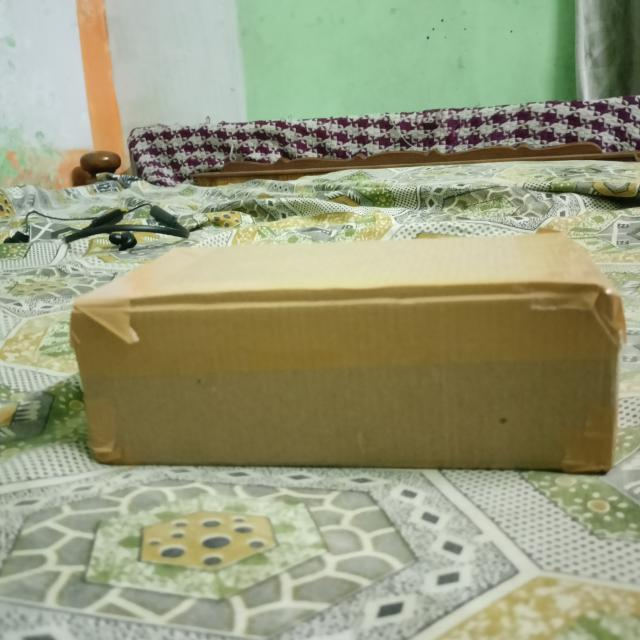box: (76, 292, 615, 472)
